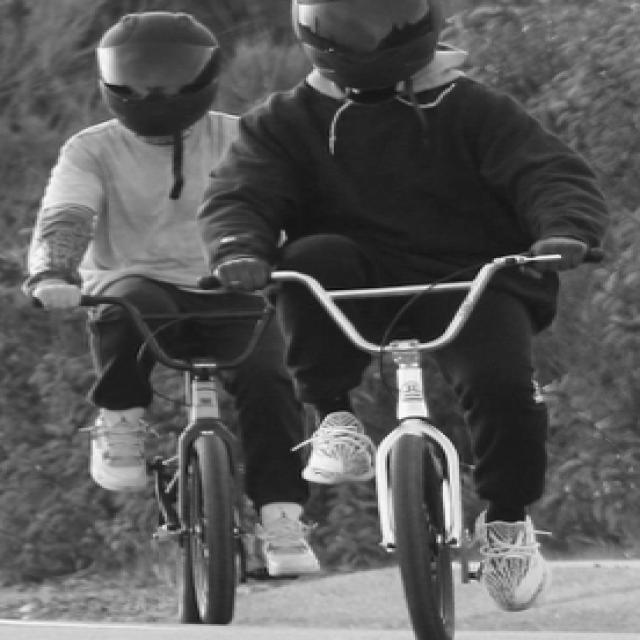Helmet: (92, 5, 222, 140), (288, 0, 446, 90)
